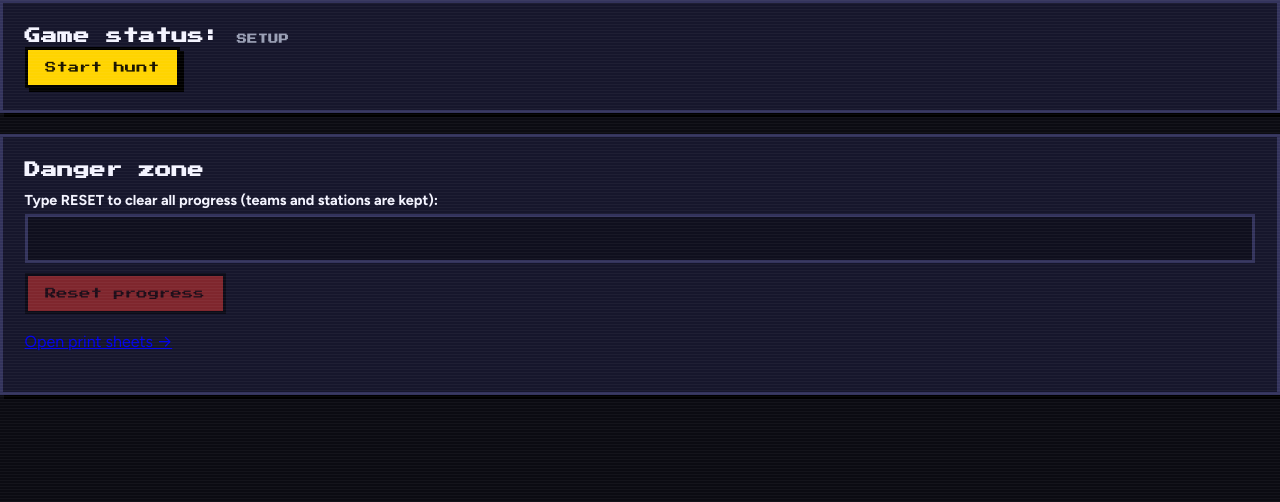
Test case: GameControl › explains uneven route lengths
This screenshot has width=1280, height=502.
Click the button "Start hunt": [102, 68] box [25,47,180,88]
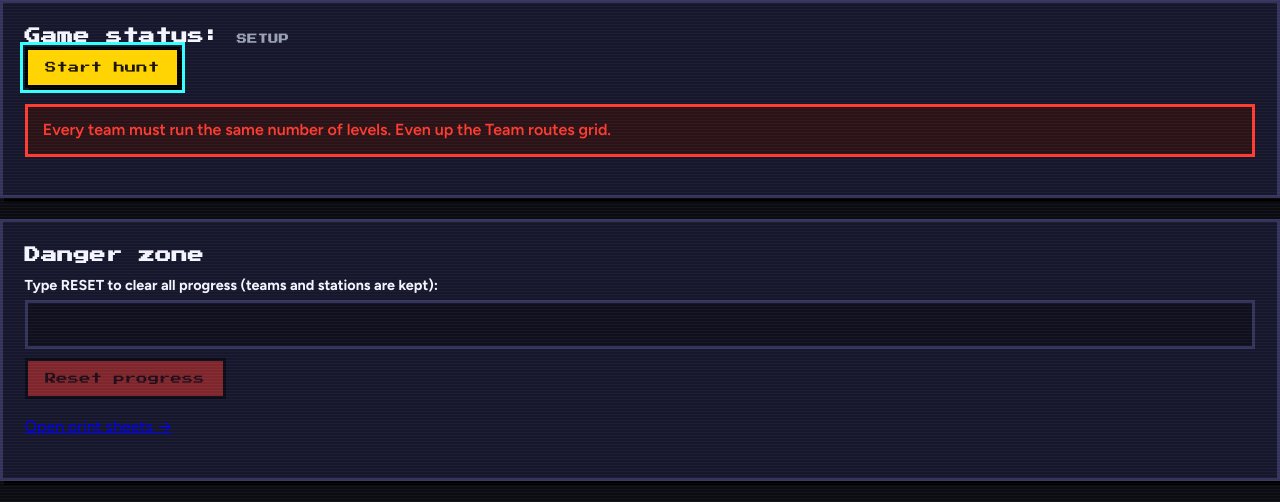
Result: the text "Every team must run the same number of levels. Even up the Team routes grid." is shown at [25,104,1255,157]
